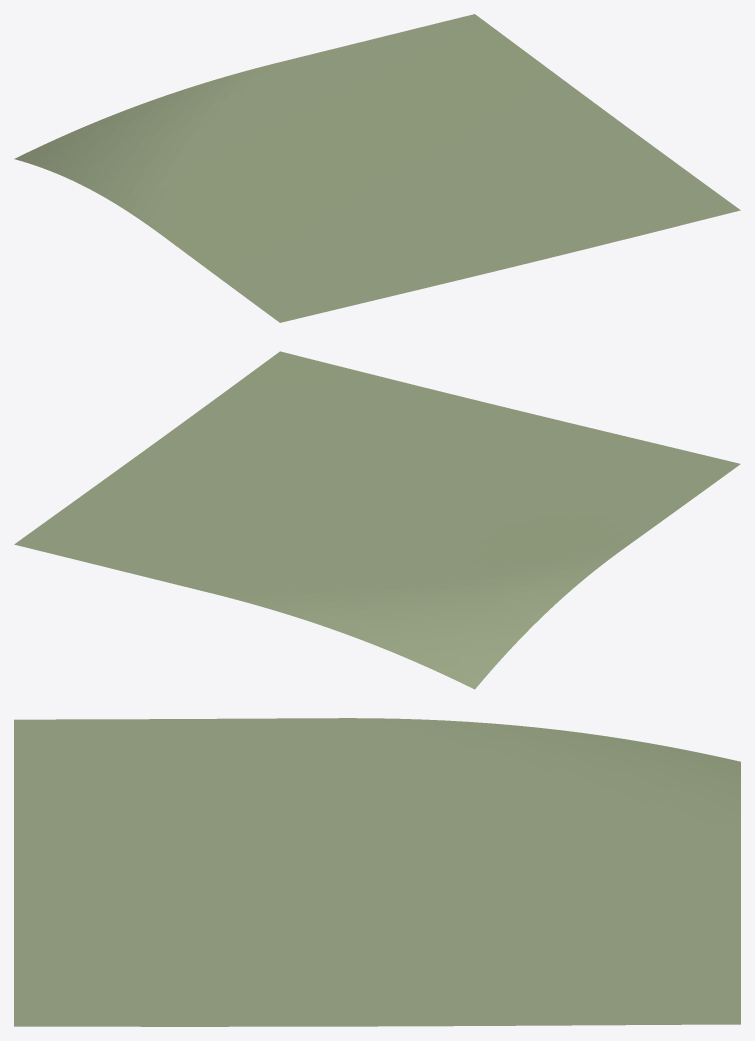
File: desert-25-19.glb
3 views of the same model, one above another, from view 1: azimuth 30°, elevation 25°; view 2: azimuth 150°, elevation 25°; view 3: azimuth 270°, elevation 25° (orthographic). The views are drawn at different scales.
Visible parts, largest first — view 1: desert-25-19; view 2: desert-25-19; view 3: desert-25-19.
Part boxes in pixels (left/top/right/bottom): desert-25-19: left=14, top=14, right=740, bottom=322; desert-25-19: left=14, top=351, right=740, bottom=689; desert-25-19: left=14, top=718, right=740, bottom=1026.
Size of the model in its own units: 512 by 34.58 by 512.
